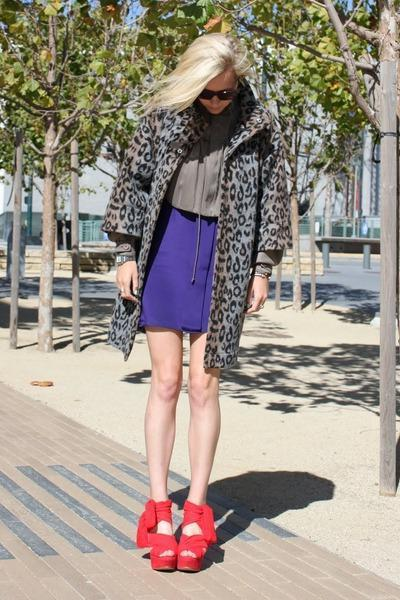coat: (102, 99, 288, 371)
skirt: (140, 205, 225, 334)
